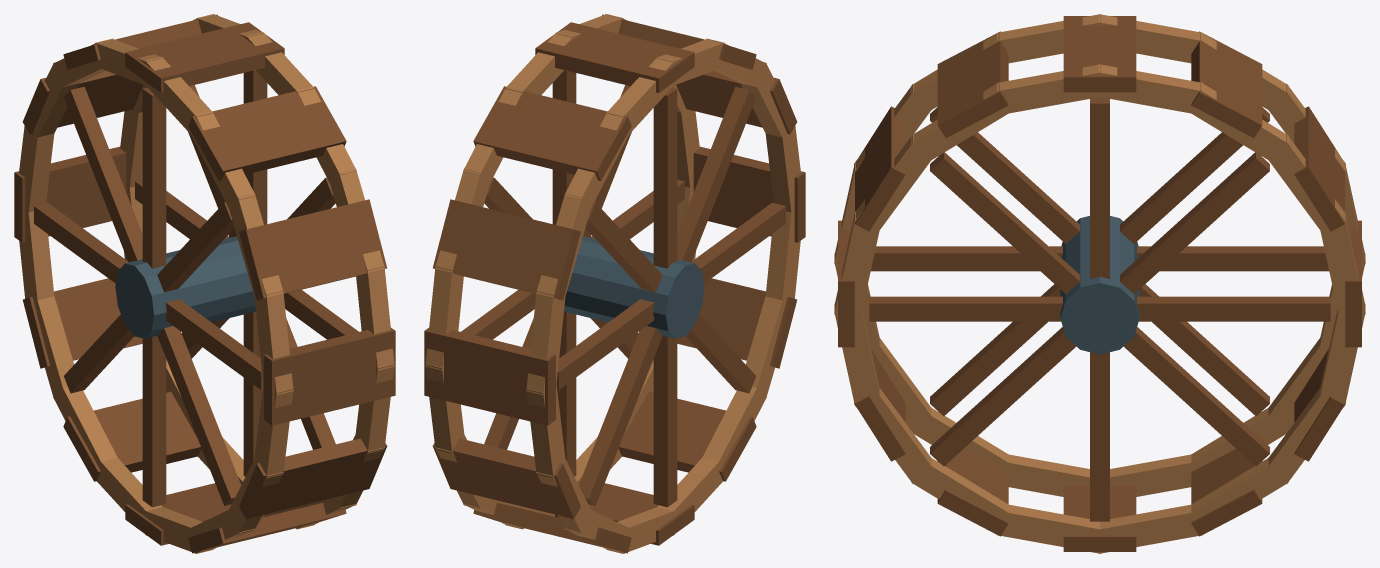
Rendered from Degirmen_Cark.fbx.
3 renders of one model, left to right at view 1: azimuth 30°, elevation 25°; view 2: azimuth 150°, elevation 25°; view 3: azimuth 270°, elevation 25°, orthographic.
Parts seen in each view (by area): view 1: Degirmen_Cark; view 2: Degirmen_Cark; view 3: Degirmen_Cark.
Part boxes in pixels (left/top/right/bottom): Degirmen_Cark: left=14, top=14, right=395, bottom=553; Degirmen_Cark: left=424, top=14, right=805, bottom=553; Degirmen_Cark: left=834, top=14, right=1365, bottom=553.
Size of the model in its own units: 50 by 161 by 161.
